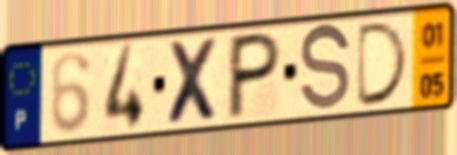4: (101, 41, 148, 135)
6: (49, 48, 94, 138)
D: (353, 18, 412, 111)
P: (223, 29, 285, 124)
S: (297, 20, 354, 118)
X: (165, 35, 224, 128)
